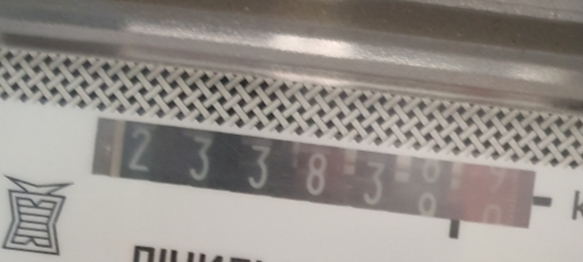0: (478, 199, 507, 226)
2: (123, 123, 156, 174)
3: (183, 132, 216, 184), (358, 156, 389, 207), (244, 141, 274, 193)
8: (301, 149, 331, 197), (416, 156, 446, 186)
9: (412, 187, 441, 219), (482, 164, 510, 195)
screen: (76, 104, 555, 251)
